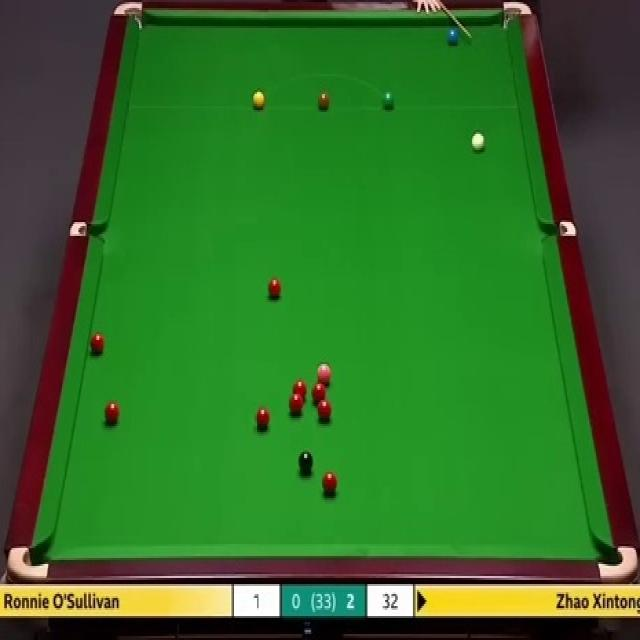pocket: (598, 542, 640, 582), (8, 543, 48, 580), (109, 0, 145, 29), (500, 2, 532, 30), (68, 220, 104, 240), (542, 220, 576, 238)
